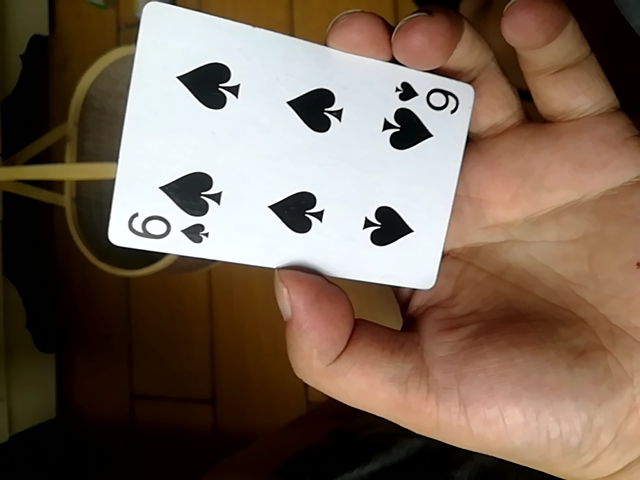ht 6: (111, 2, 476, 295)
